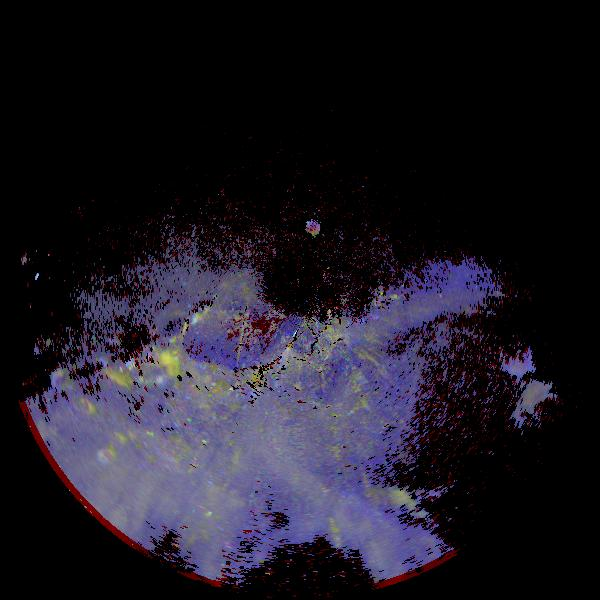roost: (144, 334, 195, 385)
